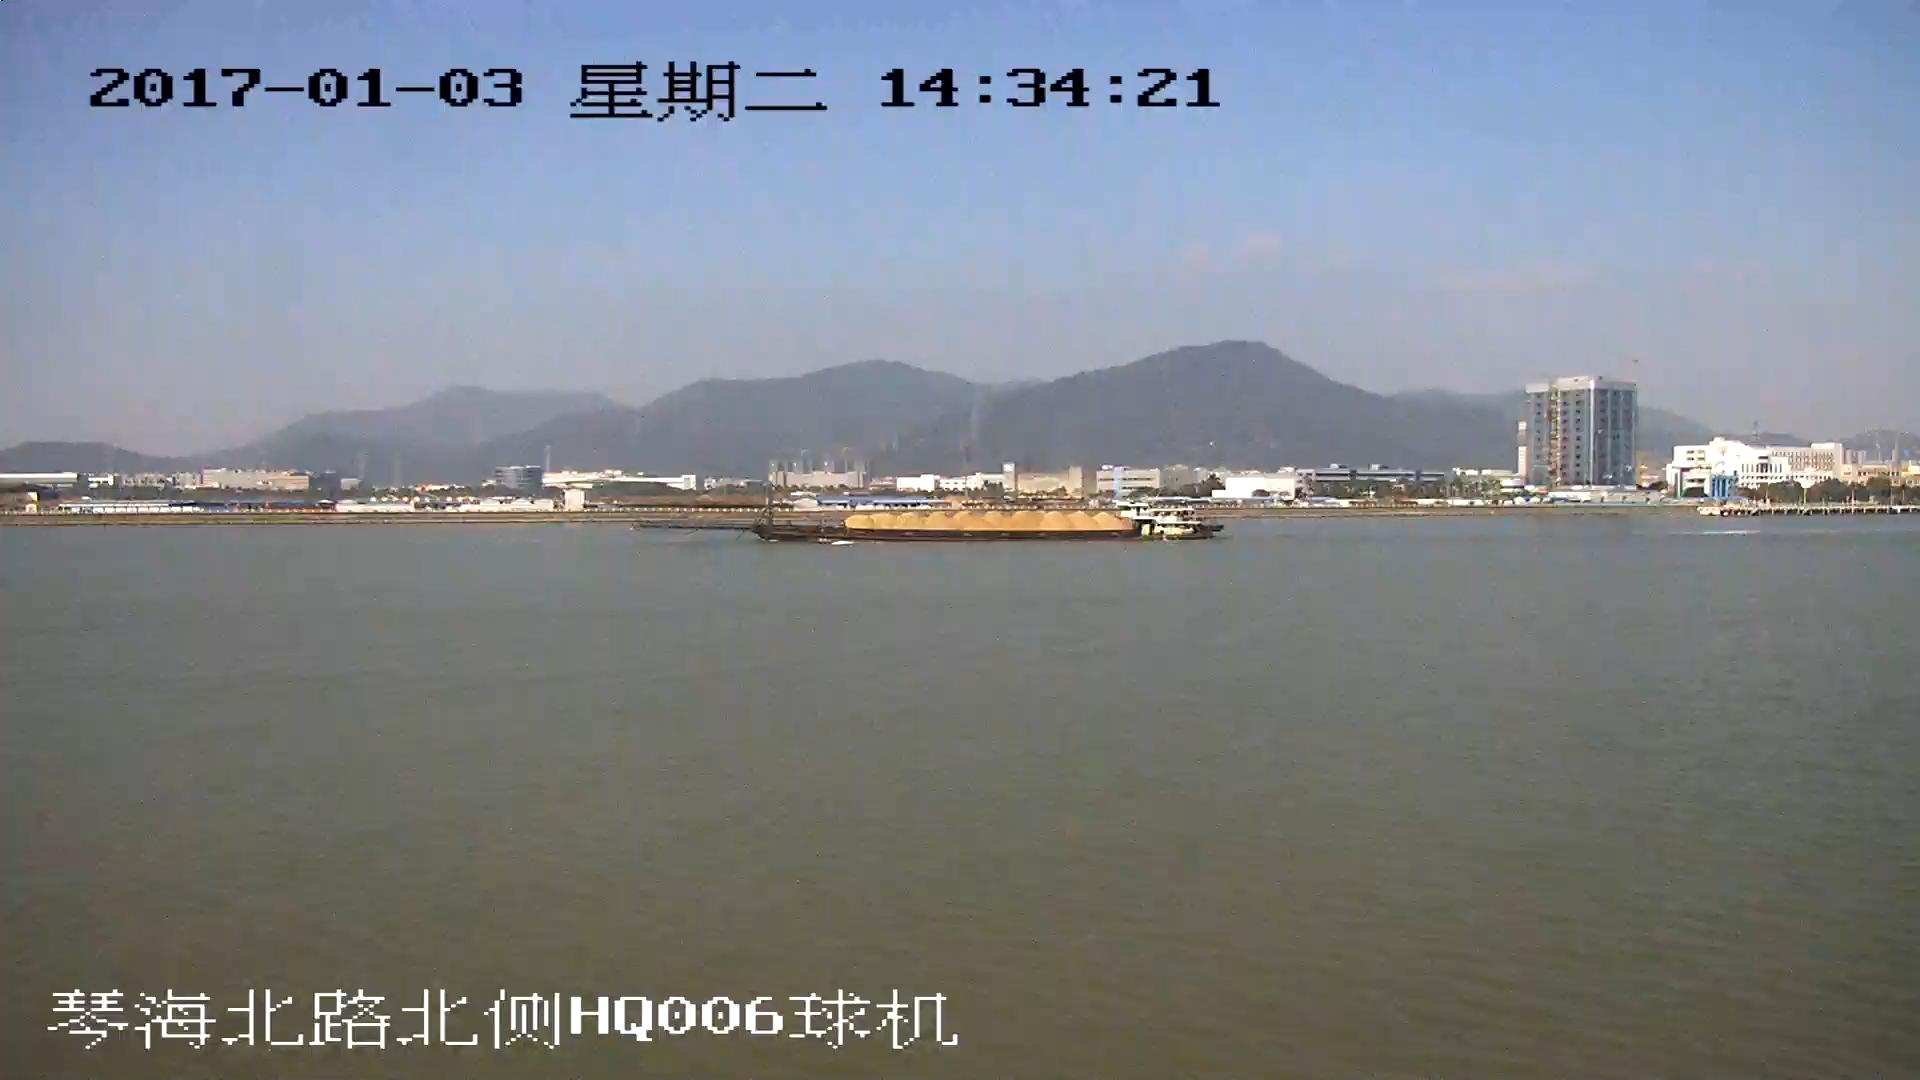ore carrier: (632, 491, 1222, 543)
